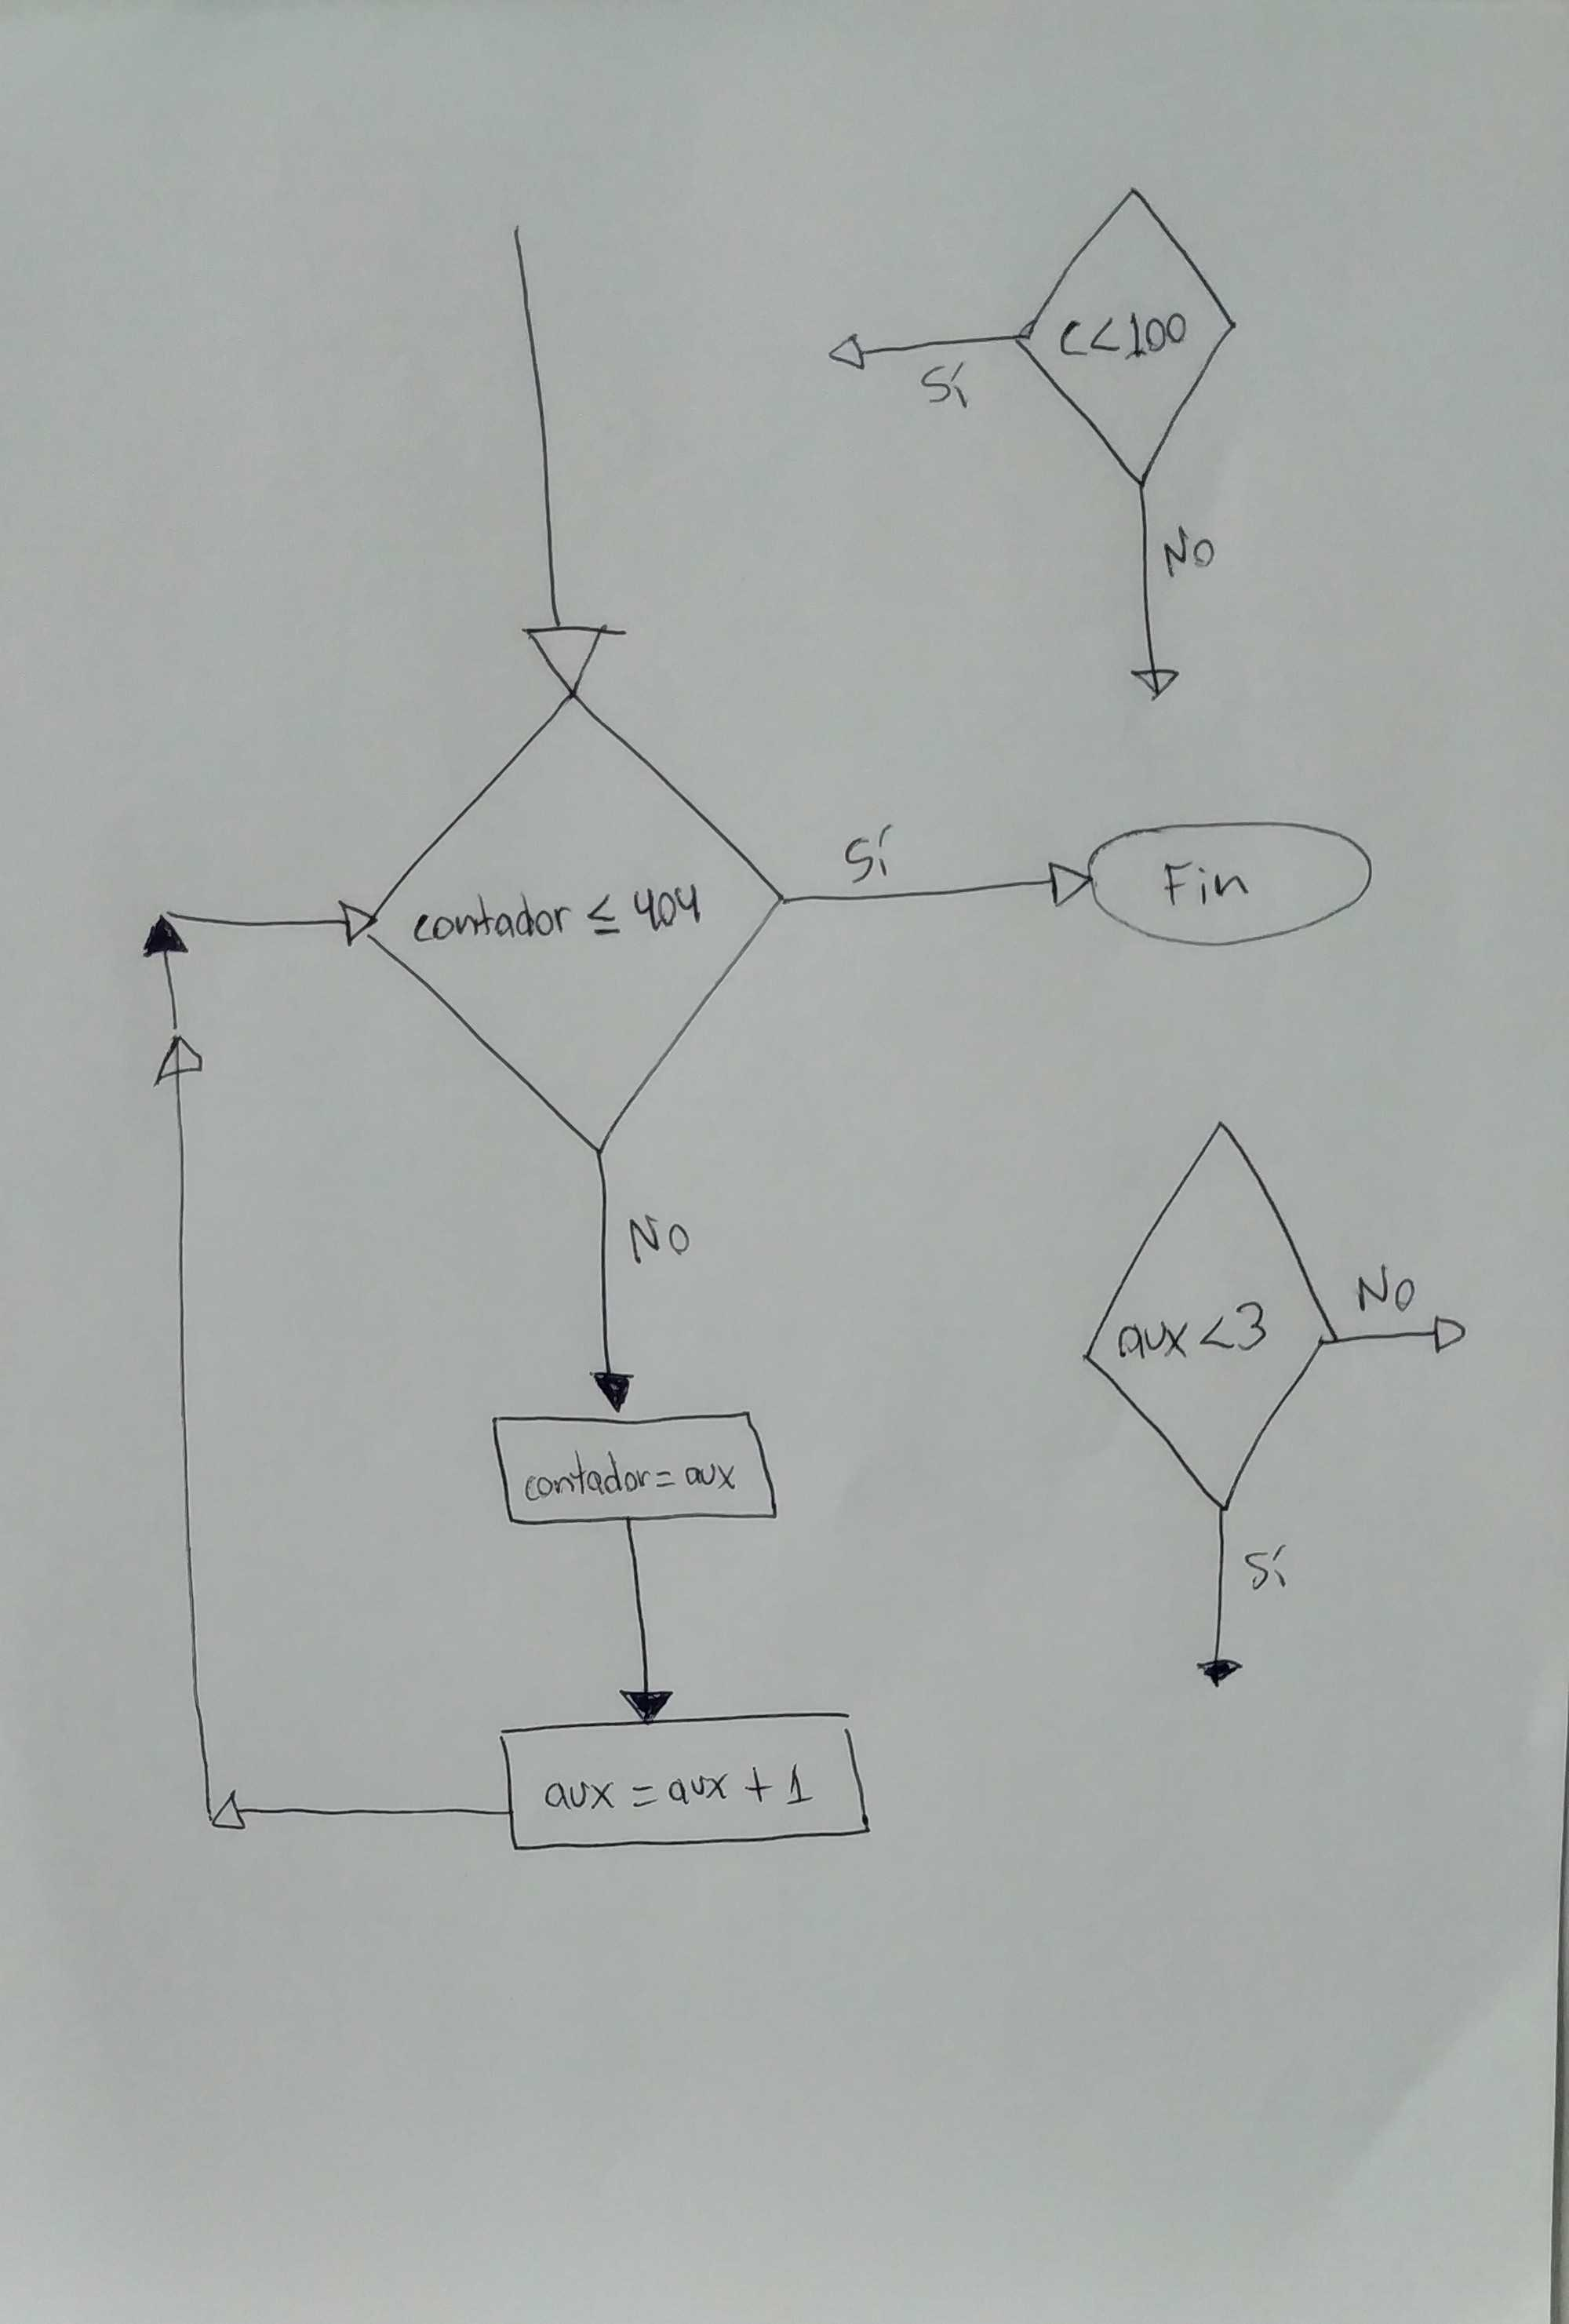arrow_line_down: (483, 212, 632, 716), (573, 1144, 650, 1429), (1108, 480, 1201, 716), (599, 1515, 683, 1727), (1186, 1501, 1259, 1702)
arrow_line_left: (200, 1767, 511, 1849), (811, 310, 1026, 377)
arrow_line_right: (769, 848, 1091, 928), (1319, 1294, 1481, 1378), (158, 888, 376, 947)
arrow_line_up: (140, 1028, 224, 1841), (131, 905, 198, 1049)
decision: (362, 687, 793, 1156), (1070, 1107, 1345, 1524), (1010, 173, 1252, 497)
process: (483, 1702, 893, 1870), (469, 1401, 795, 1539)
start_end: (1073, 793, 1389, 965)
